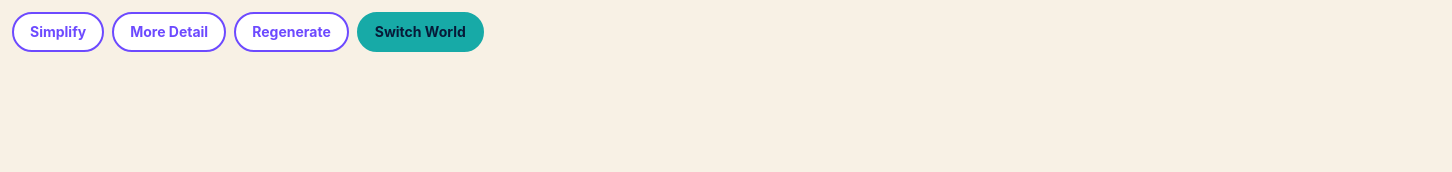
ModificationControls › shows world selector when Switch World clicked
This screenshot has width=1452, height=172.
What coordinates should you click on to do the following:
click the button "Switch World"
I would click on:
 (420, 32)
Its box is [357,12,484,52].
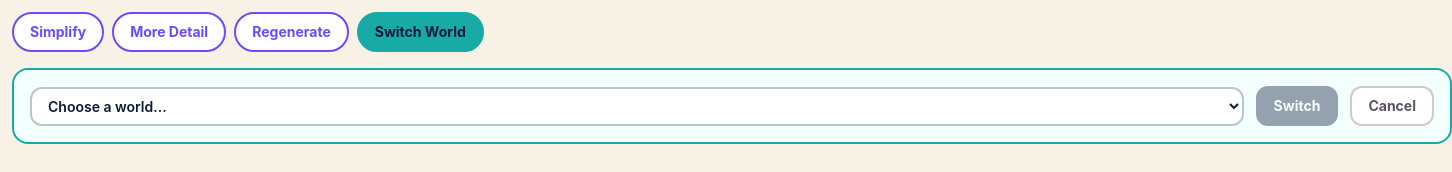
Expected: the dropdown is shown, [30,86,1244,126]
